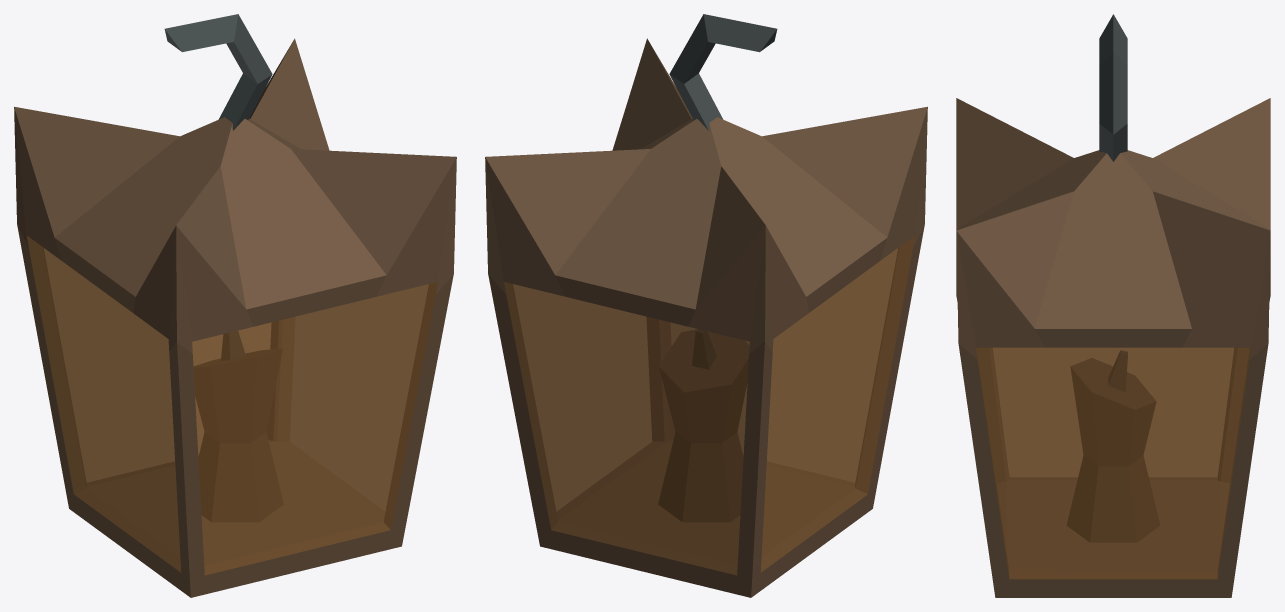
File: Lamp_3_Brown.fbx
3 renders of one model, left to right at view 1: azimuth 30°, elevation 25°; view 2: azimuth 150°, elevation 25°; view 3: azimuth 270°, elevation 25°, orthographic. The views are drawn at different scales.
Parts seen in each view (by area): view 1: Lamp_3_Brown_Part_1, Lamp_3_Brown_Part_2, Lamp_3_Brown_Part_3, Lamp_3_Brown_Part_5; view 2: Lamp_3_Brown_Part_1, Lamp_3_Brown_Part_2, Lamp_3_Brown_Part_3, Lamp_3_Brown_Part_5, Lamp_3_Brown_Part_4; view 3: Lamp_3_Brown_Part_1, Lamp_3_Brown_Part_2, Lamp_3_Brown_Part_3, Lamp_3_Brown_Part_5, Lamp_3_Brown_Part_4.
Part boxes in pixels (box(x1,y1,x2,y2)): Lamp_3_Brown_Part_1: box(14, 38, 456, 597); Lamp_3_Brown_Part_2: box(26, 235, 437, 575); Lamp_3_Brown_Part_3: box(194, 349, 283, 521); Lamp_3_Brown_Part_5: box(164, 14, 272, 130); Lamp_3_Brown_Part_1: box(485, 38, 927, 597); Lamp_3_Brown_Part_2: box(504, 235, 915, 575); Lamp_3_Brown_Part_3: box(658, 330, 749, 521); Lamp_3_Brown_Part_5: box(669, 14, 777, 130); Lamp_3_Brown_Part_4: box(692, 329, 716, 369); Lamp_3_Brown_Part_1: box(956, 98, 1270, 597); Lamp_3_Brown_Part_2: box(976, 347, 1250, 579); Lamp_3_Brown_Part_3: box(1067, 358, 1159, 542); Lamp_3_Brown_Part_5: box(1099, 14, 1127, 161); Lamp_3_Brown_Part_4: box(1108, 350, 1127, 391).
Size of the model in its own units: 39.9 by 75.11 by 39.9.
